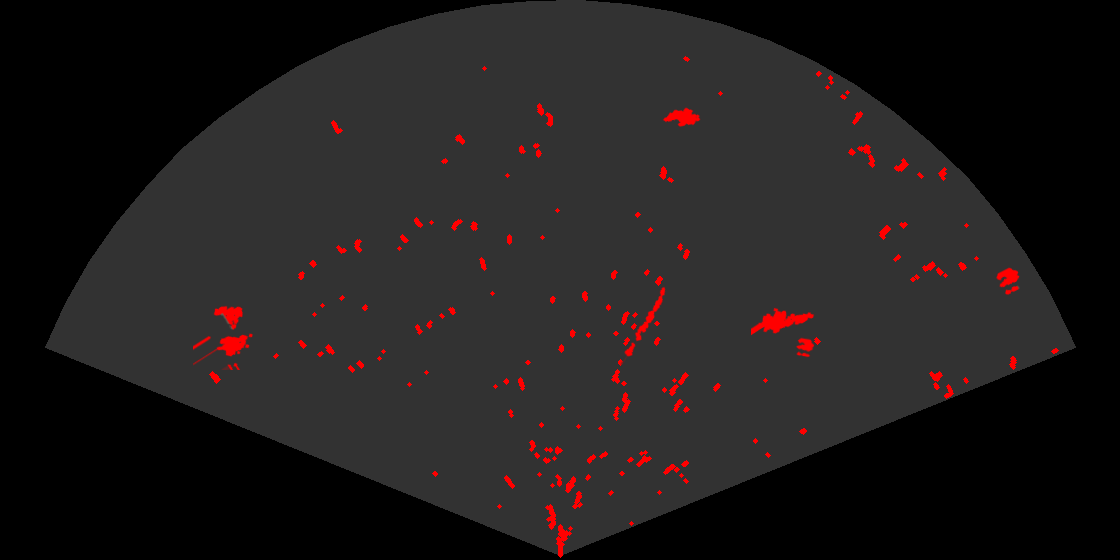AUV: (661, 106, 702, 128)
ball: (995, 266, 1021, 296), (794, 336, 816, 359)
cage: (193, 304, 254, 370)
chain: (620, 285, 667, 365)
frogman: (751, 306, 816, 337)
